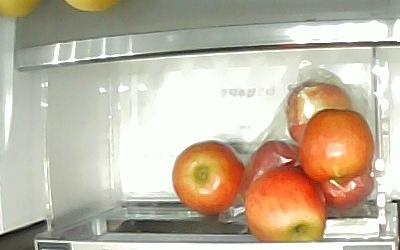apple: (242, 166, 327, 241), (170, 139, 244, 216), (297, 107, 375, 180)
apple_vinyl: (285, 80, 352, 144), (244, 140, 301, 189), (315, 173, 375, 210)
